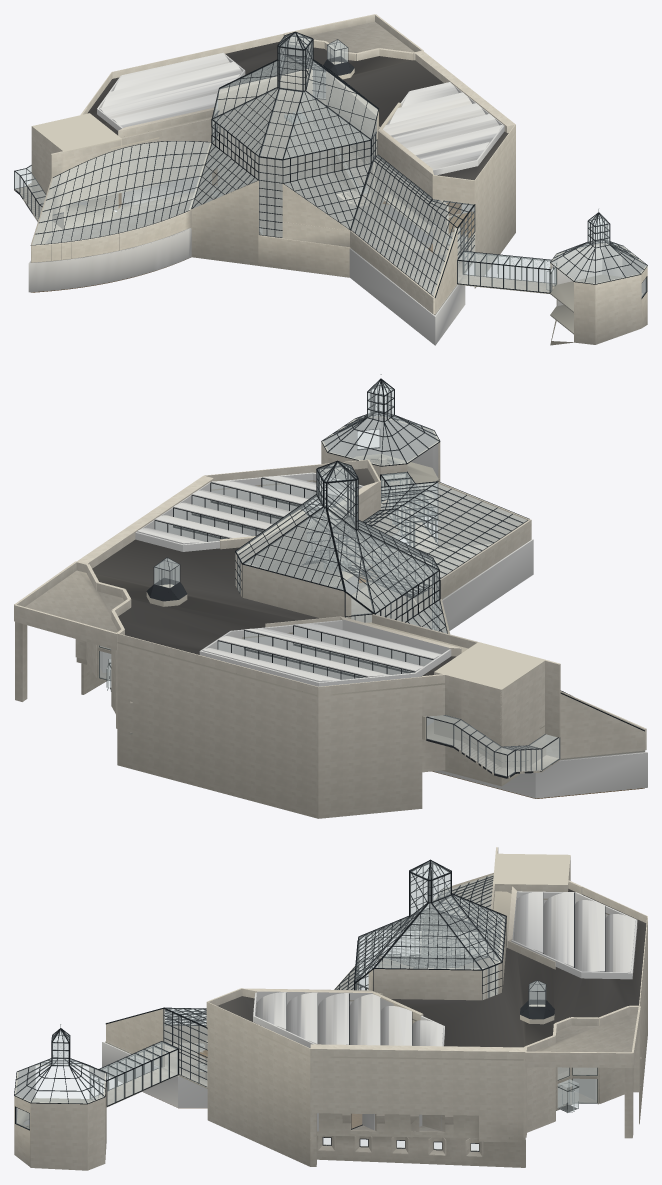
The model's file is building.glb.
The picture shows the model from 3 angles, top to bottom: view 1: azimuth 30°, elevation 25°; view 2: azimuth 150°, elevation 25°; view 3: azimuth 270°, elevation 25°; orthographic projection. The views are drawn at different scales.
Parts seen in each view (by area): view 1: building/walls, building/glass, building/ceilings, building/frames, building/floors; view 2: building/walls, building/glass, building/ceilings, building/frames, building/floors; view 3: building/walls, building/ceilings, building/glass, building/frames, building/floors.
Part boxes in pixels (left/top/right/bottom): building/walls: left=28, top=33, right=647, bottom=345; building/glass: left=14, top=33, right=646, bottom=296; building/ceilings: left=31, top=14, right=515, bottom=249; building/frames: left=14, top=31, right=647, bottom=298; building/floors: left=14, top=115, right=646, bottom=344; building/walls: left=15, top=417, right=647, bottom=818; building/glass: left=100, top=381, right=559, bottom=776; building/ceilings: left=14, top=463, right=641, bottom=760; building/frames: left=99, top=374, right=644, bottom=778; building/floors: left=100, top=416, right=647, bottom=798; building/walls: left=14, top=847, right=647, bottom=1170; building/ceilings: left=26, top=853, right=647, bottom=1125; building/glass: left=15, top=861, right=596, bottom=1150; building/frames: left=14, top=859, right=605, bottom=1151; building/floors: left=15, top=909, right=641, bottom=1138.
Size of the model in its own units: 80.81 by 39.73 by 93.62.
Materials: 49 (8 with a texture image).
